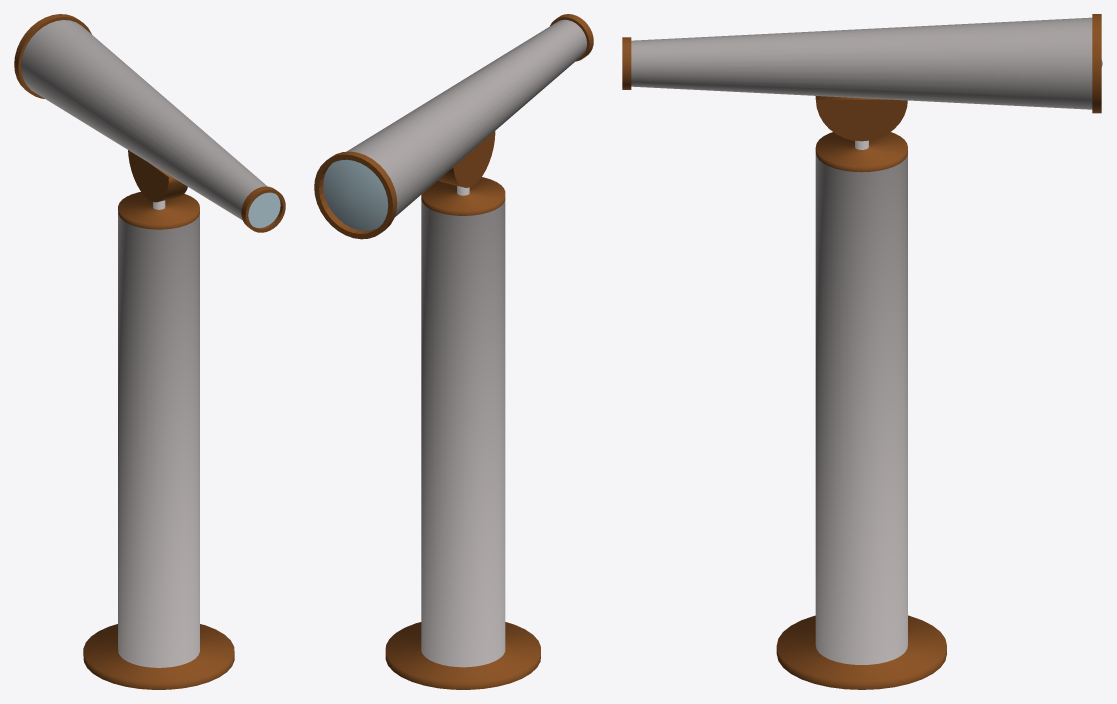
File: Luneta.fbx
3 renders of one model, left to right at view 1: azimuth 30°, elevation 25°; view 2: azimuth 150°, elevation 25°; view 3: azimuth 270°, elevation 25°, orthographic. The views are drawn at different scales.
Visible parts, largest first — view 1: Base, Luneta, Lentes; view 2: Base, Luneta, Lentes; view 3: Base, Luneta.
Boxes of the visible parts, x1,y1,x2,y2 form: Base: (83,192,234,689); Luneta: (14,14,285,232); Lentes: (248,192,280,227); Base: (385,177,540,689); Luneta: (314,14,593,239); Lentes: (323,159,388,230); Base: (776,132,946,689); Luneta: (622,14,1101,141).
Bounding box in the file's own units: 36.96 × 152 × 104.
Materials: 2 (1 with a texture image).
